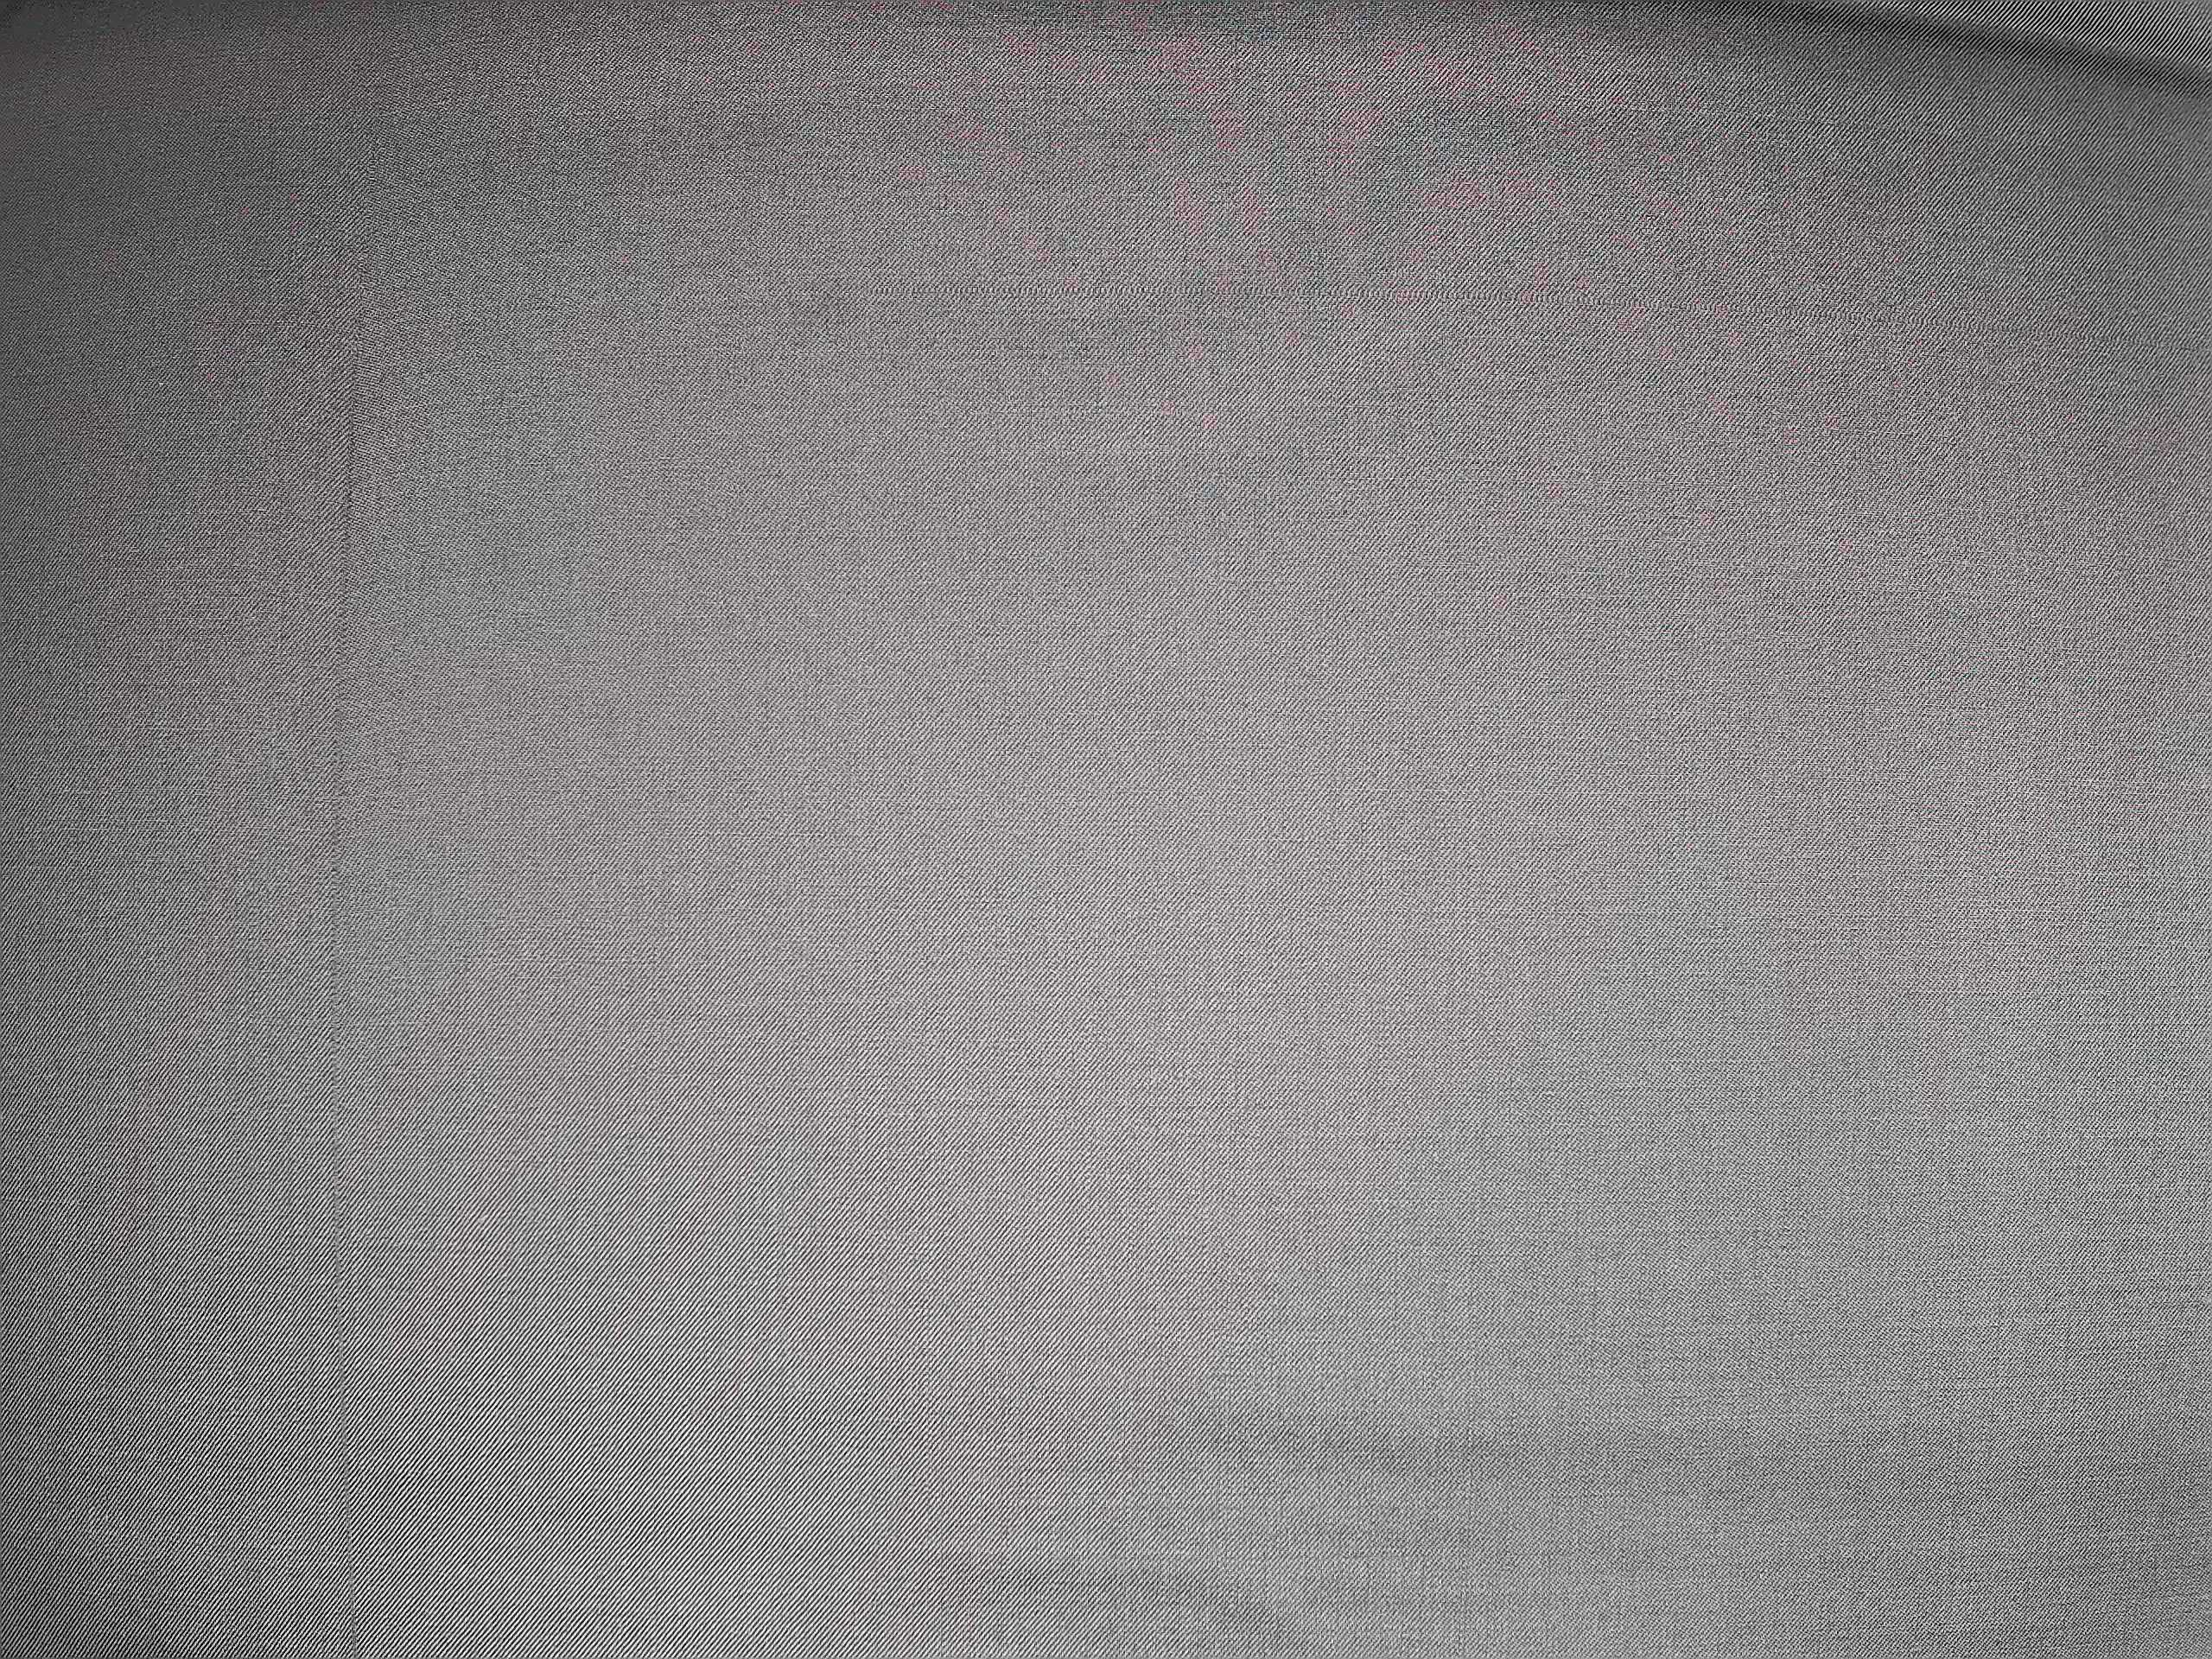hanging-warp: (315, 2, 413, 1650)
